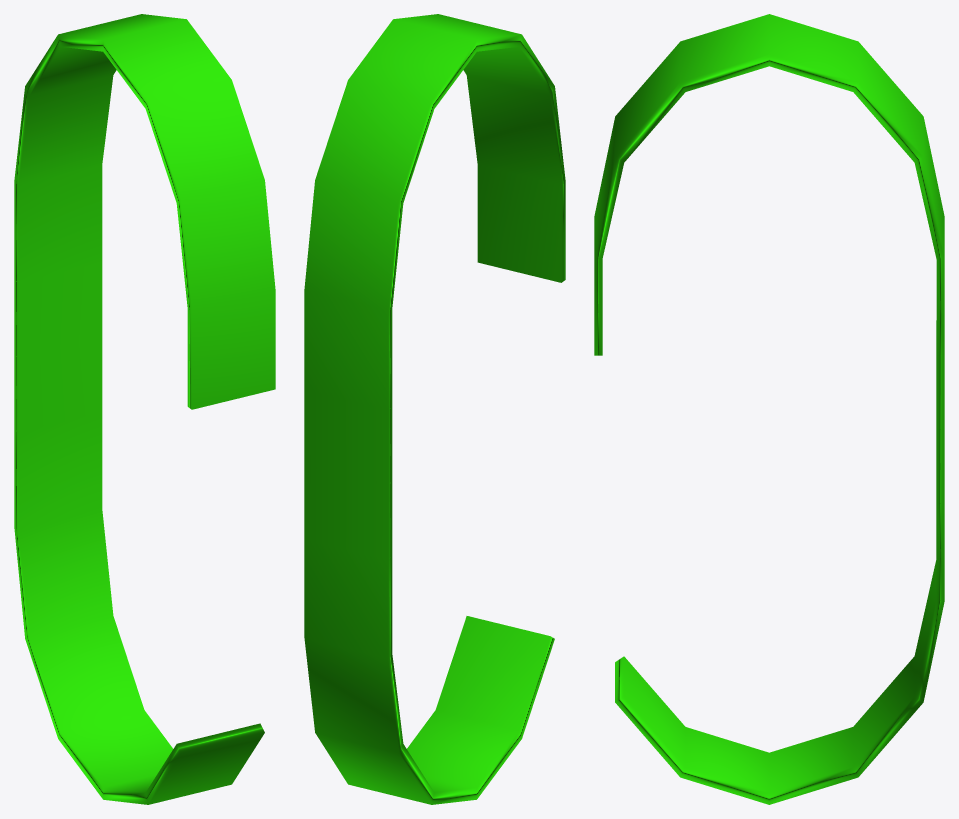
File: Kitchen_Shelf_Hook.fbx
The picture shows the model from 3 angles, left to right: view 1: azimuth 30°, elevation 25°; view 2: azimuth 150°, elevation 25°; view 3: azimuth 270°, elevation 25°; orthographic projection.
Parts seen in each view (by area): view 1: Kitchen_Shelf_Hook; view 2: Kitchen_Shelf_Hook; view 3: Kitchen_Shelf_Hook.
Part boxes in pixels (x1=…): Kitchen_Shelf_Hook: x1=14, y1=14, x2=275, y2=804; Kitchen_Shelf_Hook: x1=304, y1=14, x2=565, y2=804; Kitchen_Shelf_Hook: x1=594, y1=14, x2=944, y2=804.
Bounding box in the file's own units: 0.6797 × 5.9 × 2.5.
